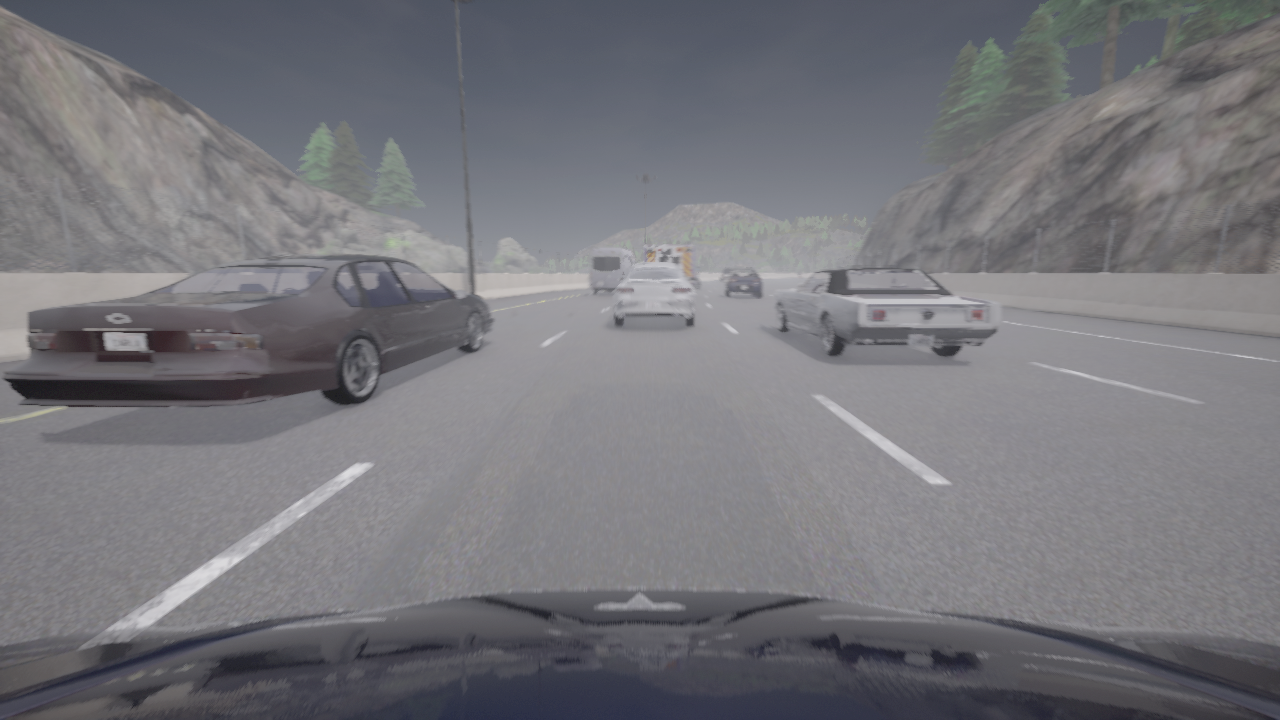cyclist: (0, 588, 1279, 719), (3, 255, 493, 407), (773, 267, 1000, 356), (613, 263, 695, 326), (644, 245, 699, 290), (589, 247, 635, 294), (724, 268, 761, 297), (720, 268, 733, 282), (696, 273, 700, 289), (798, 273, 802, 280)
